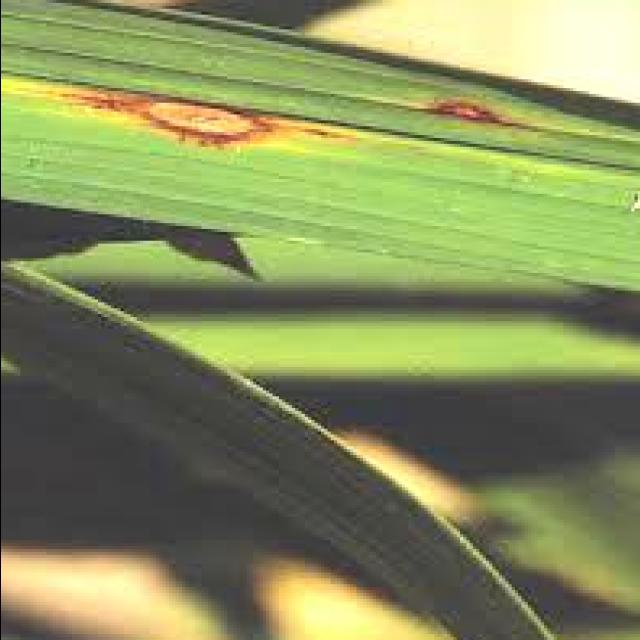Leaf_Blast: (61, 64, 342, 150), (424, 88, 556, 126)
